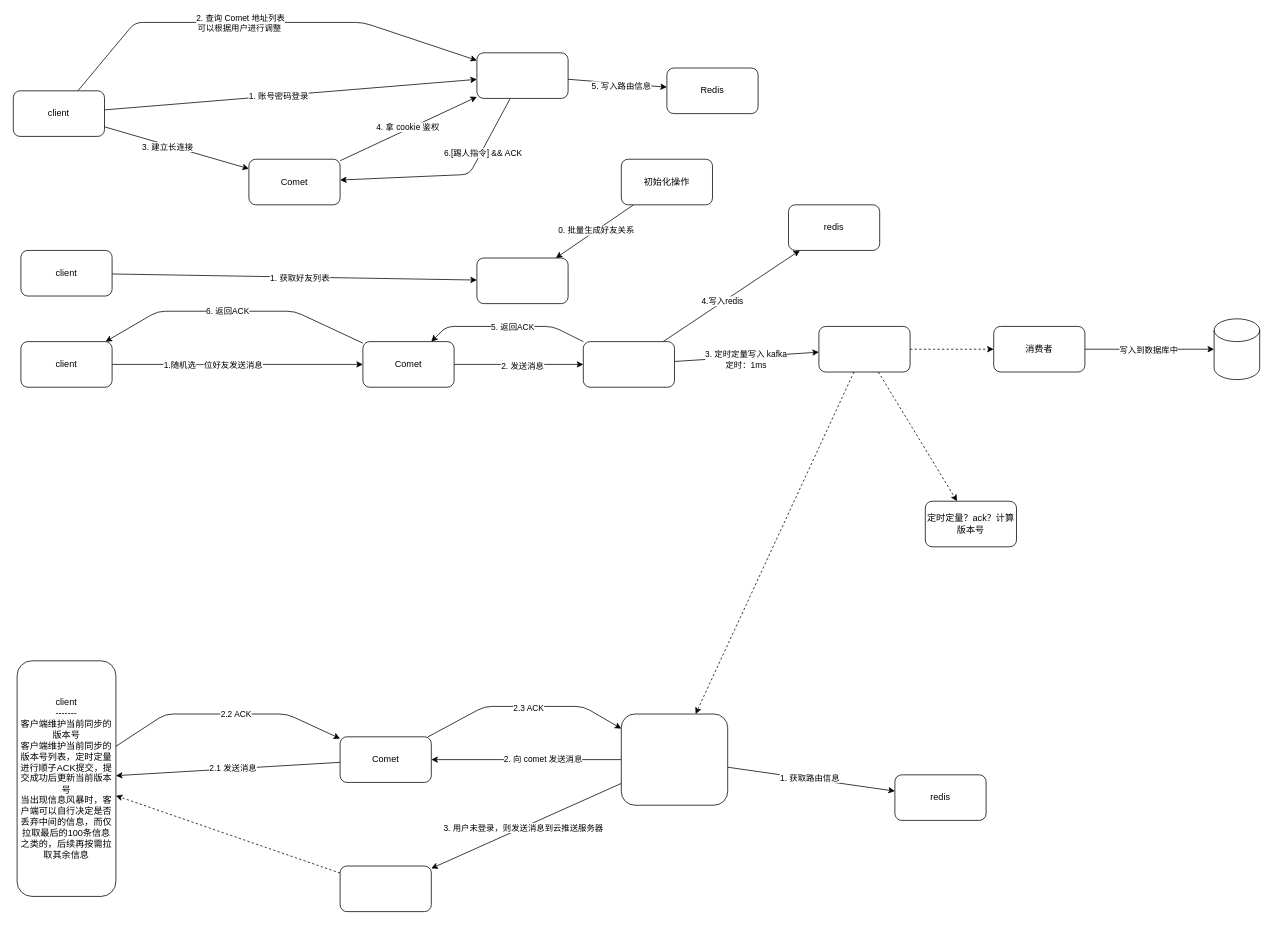
This 1273x925 diagram has some shape labels left out. Each missing label, with the centre of its shape:
APNs: the point at 385,888
Auth: the point at 522,75
Chat: the point at 628,364
Friends: the point at 522,280
kafka ------ 数据分片 通知: the point at 864,349
聊天推送服务器 ------- 最多两次的方案， 一致性由其他补偿事务确保: the point at 674,759
